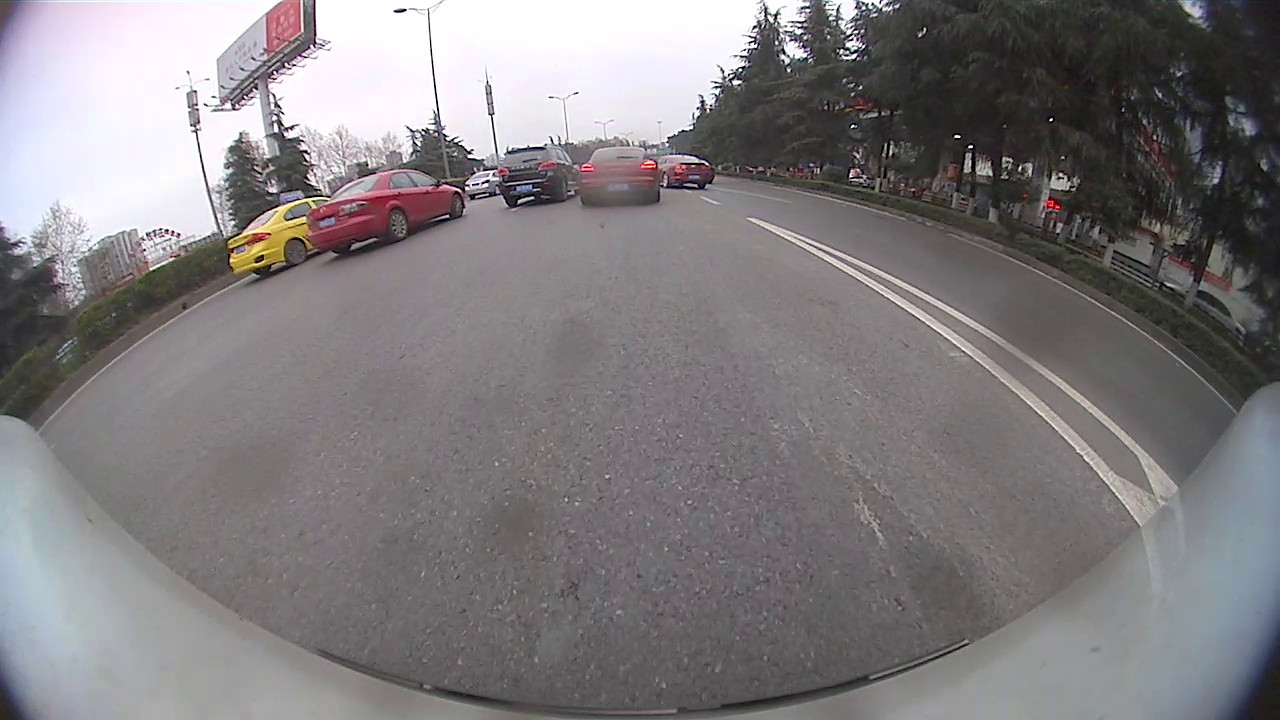car: (303, 166, 467, 251), (229, 195, 333, 272), (496, 147, 583, 206), (579, 146, 665, 204), (659, 156, 715, 193)
front: (449, 193, 464, 220)
rear: (384, 207, 411, 242), (282, 238, 308, 266)
